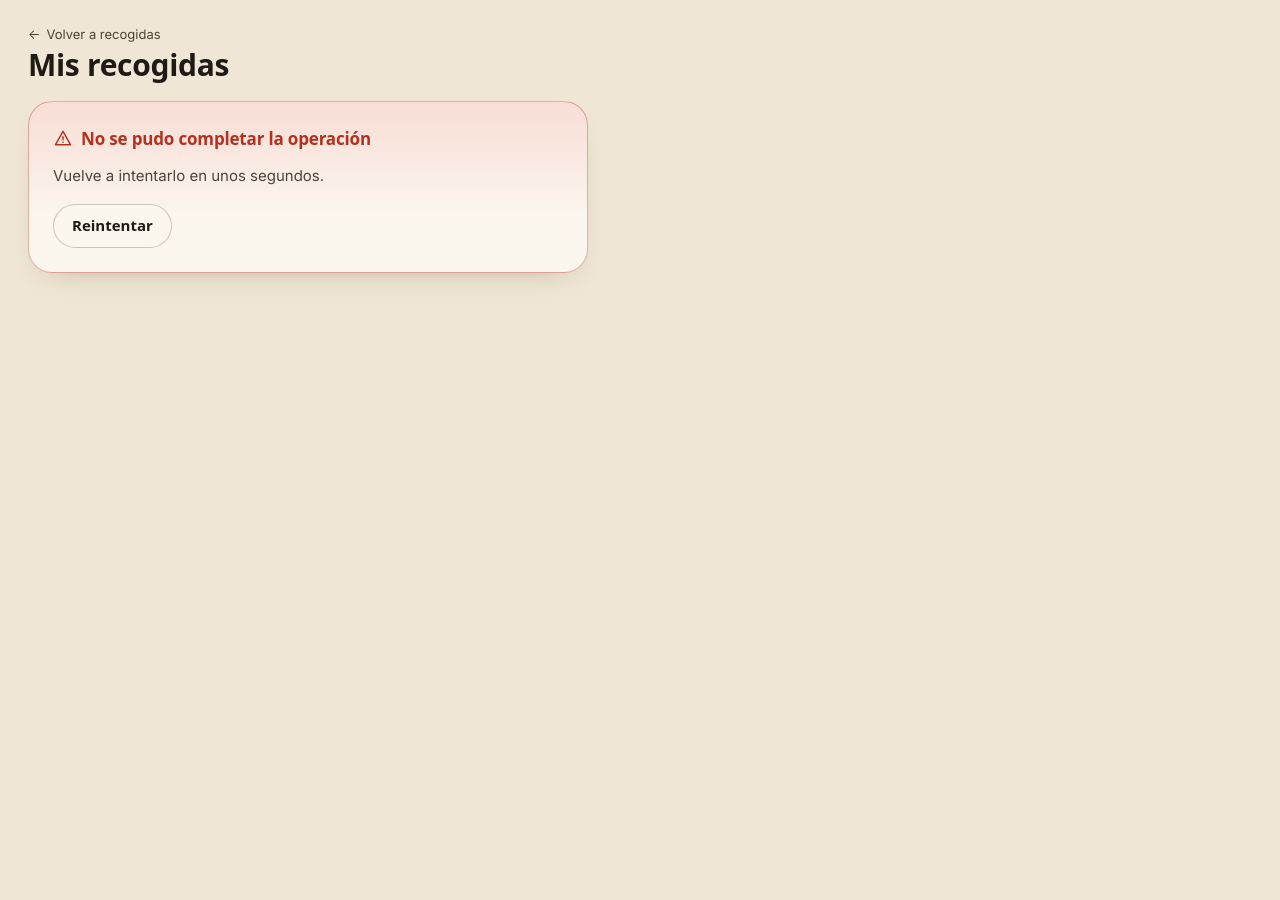
Scenario: pickup screens › retries a failed conversation read
Step 1. Click the button "Reintentar" → (112,226), box [53,204,172,248]
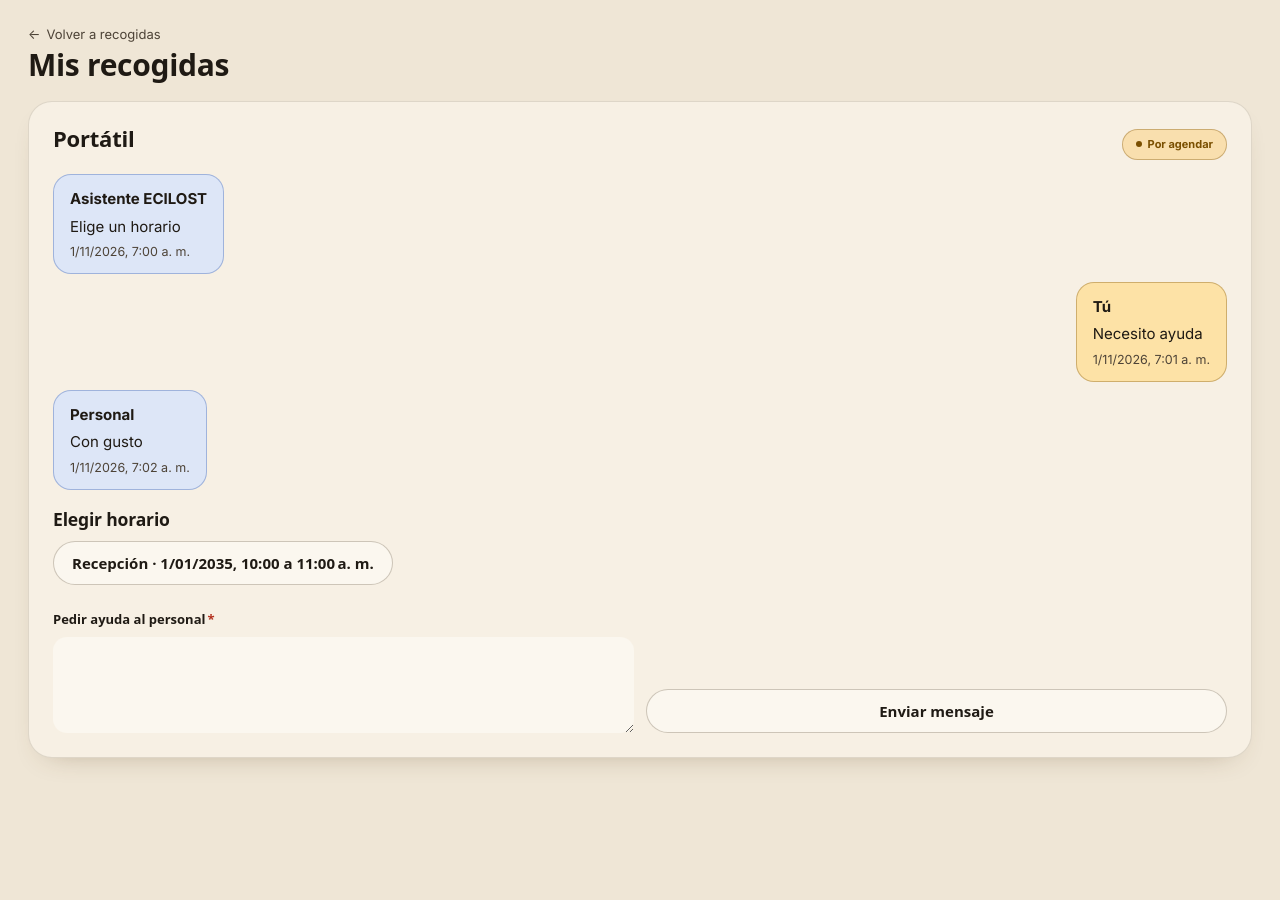
Expected: the heading "Portátil" is shown, [53,126,134,150]
